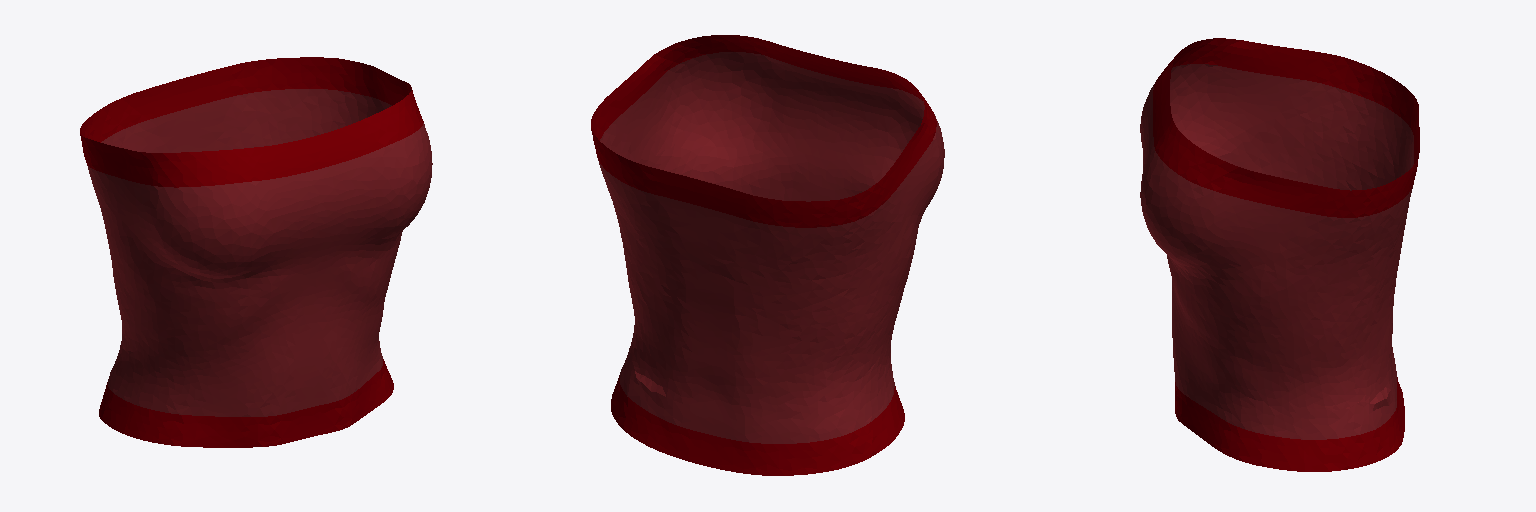
Rendered from top_red.obj.
3 renders of one model, left to right at view 1: azimuth 30°, elevation 25°; view 2: azimuth 150°, elevation 25°; view 3: azimuth 270°, elevation 25°, orthographic.
Visible parts, largest first — view 1: Cloth_Shape; view 2: Cloth_Shape; view 3: Cloth_Shape.
Boxes of the visible parts, box(x1,y1,x2,y2) form: Cloth_Shape: box(80, 57, 432, 447); Cloth_Shape: box(591, 35, 944, 475); Cloth_Shape: box(1140, 38, 1419, 471).
Bounding box in the file's own units: 0.1841 × 0.2045 × 0.1575.